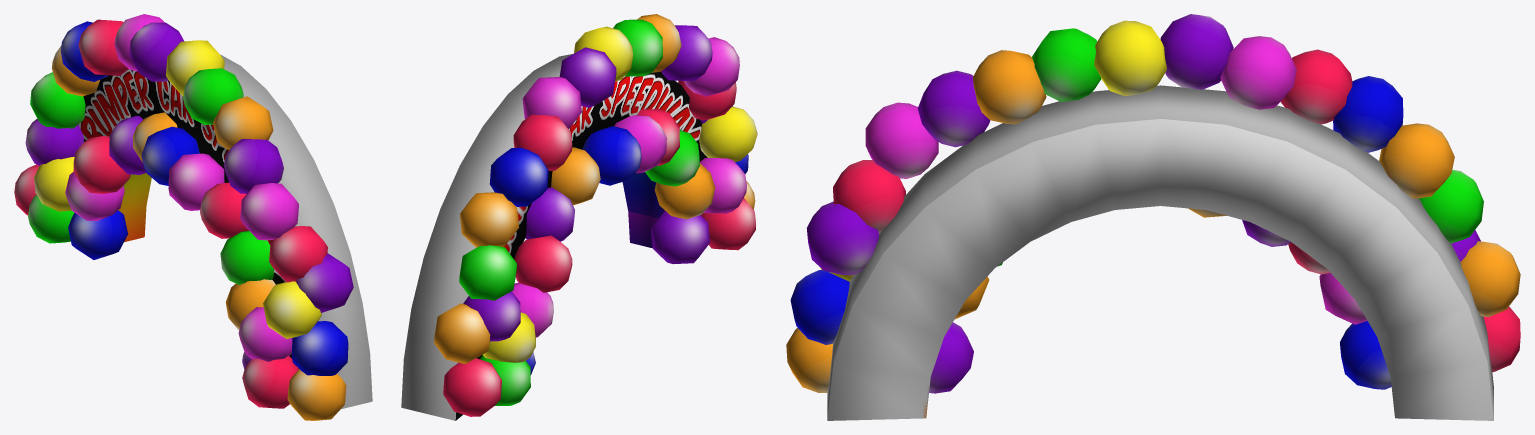
File: racetrackstart.glb
3 views of the same model, side by side, from view 1: azimuth 30°, elevation 25°; view 2: azimuth 150°, elevation 25°; view 3: azimuth 270°, elevation 25° (orthographic). The views are drawn at different scales.
Parts seen in each view (by area): view 1: Sphere.016; view 2: Sphere.016; view 3: Sphere.016.
Part boxes in pixels (bbox=[...]): Sphere.016: bbox=[14, 14, 372, 420]; Sphere.016: bbox=[401, 14, 757, 420]; Sphere.016: bbox=[786, 14, 1520, 420].
Bounding box in the file's own units: 5 × 13 × 23.61.
1 material, 1 textured.
